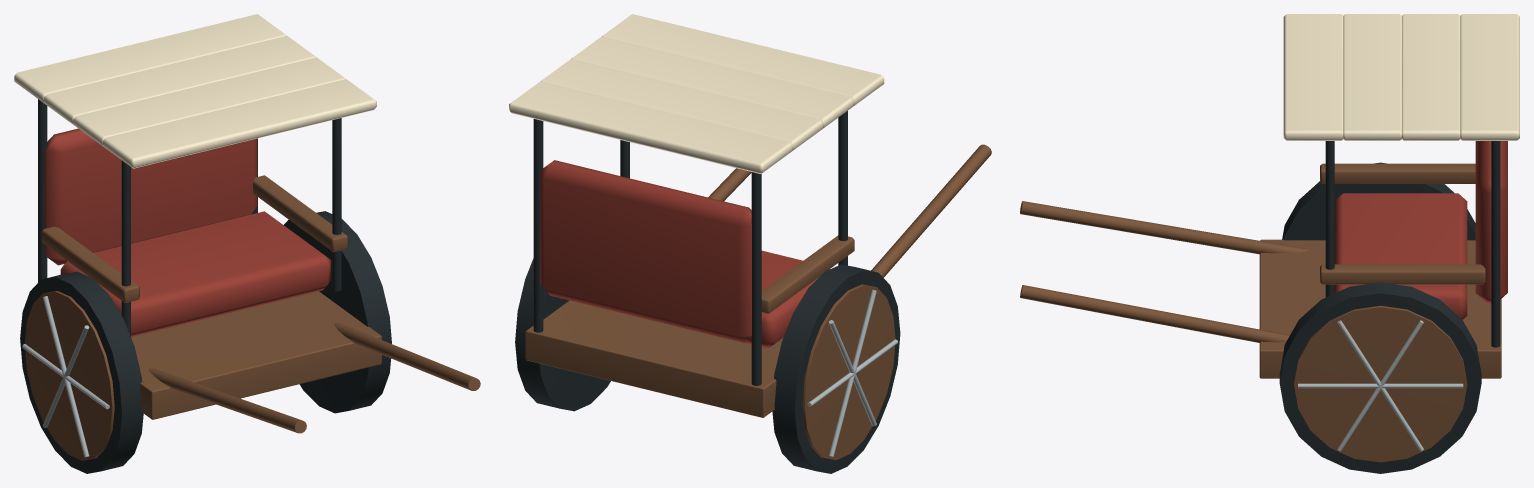
The model's file is S094_rickshaw_cart_rebuilt.glb.
3 views of the same model, side by side, from view 1: azimuth 30°, elevation 25°; view 2: azimuth 150°, elevation 25°; view 3: azimuth 270°, elevation 25° (orthographic). The views are drawn at different scales.
Visible parts, largest first — view 1: wood, red, cream, dark, steel; view 2: cream, wood, red, dark, steel; view 3: wood, cream, dark, red, steel.
Part boxes in pixels (<box>): wood: <box>24,175,480,460</box>; red: <box>45,128,331,336</box>; cream: <box>14,14,376,168</box>; dark: <box>20,99,391,473</box>; steel: <box>22,296,109,457</box>; cream: <box>509,14,884,173</box>; wood: <box>525,144,991,460</box>; red: <box>540,160,829,348</box>; dark: <box>515,111,900,473</box>; steel: <box>807,289,898,456</box>; wood: <box>1020,163,1501,462</box>; cream: <box>1283,14,1519,140</box>; dark: <box>1279,141,1500,473</box>; red: <box>1334,141,1507,319</box>; steel: <box>1298,320,1463,451</box>.
Bounding box in the file's own units: 1.63 × 1.86 × 2.5.
